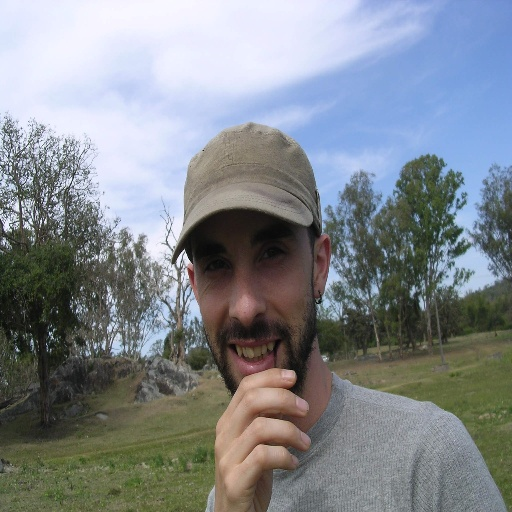hand: (213, 369, 312, 511)
